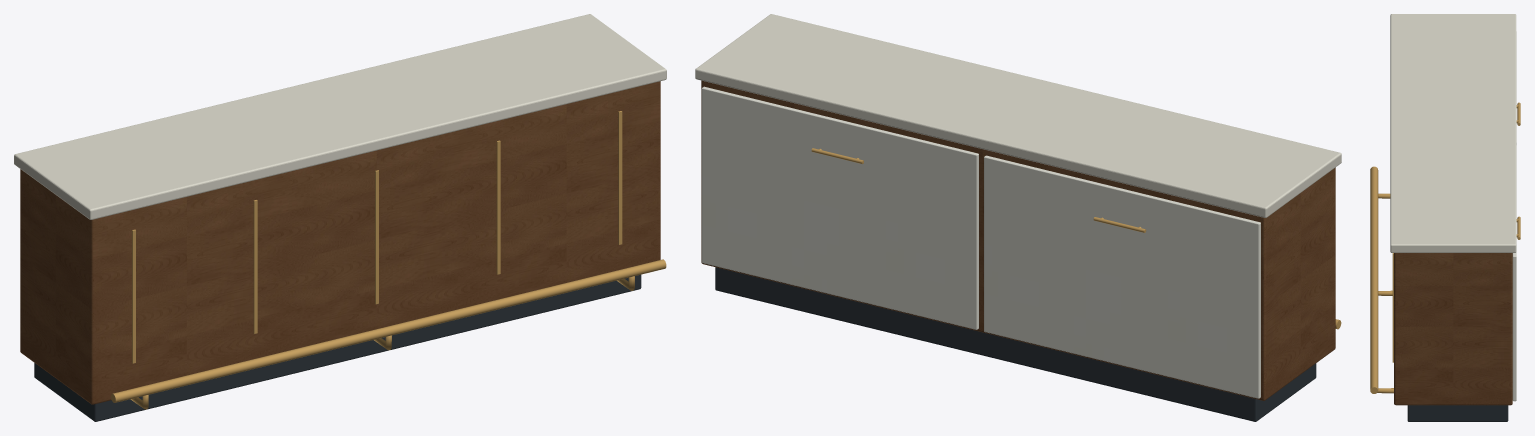
Rendered from counter.glb.
The picture shows the model from 3 angles, left to right: view 1: azimuth 30°, elevation 25°; view 2: azimuth 150°, elevation 25°; view 3: azimuth 270°, elevation 25°; orthographic projection. The views are drawn at different scales.
Parts seen in each view (by area): view 1: Counter body, Counter solid worktop, Cabinet handle, Recessed counter plinth; view 2: Workside door, Counter solid worktop, Counter body, Recessed counter plinth; view 3: Counter solid worktop, Counter body, Cabinet handle, Recessed counter plinth, Workside door.
Boxes of the visible parts, left/top/right/bottom form: Counter body: left=20, top=81, right=660, bottom=404; Counter solid worktop: left=14, top=14, right=666, bottom=219; Cabinet handle: left=111, top=111, right=666, bottom=409; Recessed counter plinth: left=34, top=274, right=641, bottom=421; Workside door: left=701, top=86, right=1260, bottom=398; Counter solid worktop: left=695, top=14, right=1341, bottom=217; Counter body: left=701, top=80, right=1335, bottom=400; Recessed counter plinth: left=715, top=267, right=1316, bottom=421; Counter solid worktop: left=1390, top=14, right=1516, bottom=252; Counter body: left=1394, top=253, right=1512, bottom=405; Cabinet handle: left=1370, top=102, right=1520, bottom=393; Recessed counter plinth: left=1407, top=405, right=1508, bottom=421; Workside door: left=1512, top=31, right=1516, bottom=401.
Size of the model in its own units: 3.04 by 1.13 by 0.8359.
5 materials, 5 textured.
